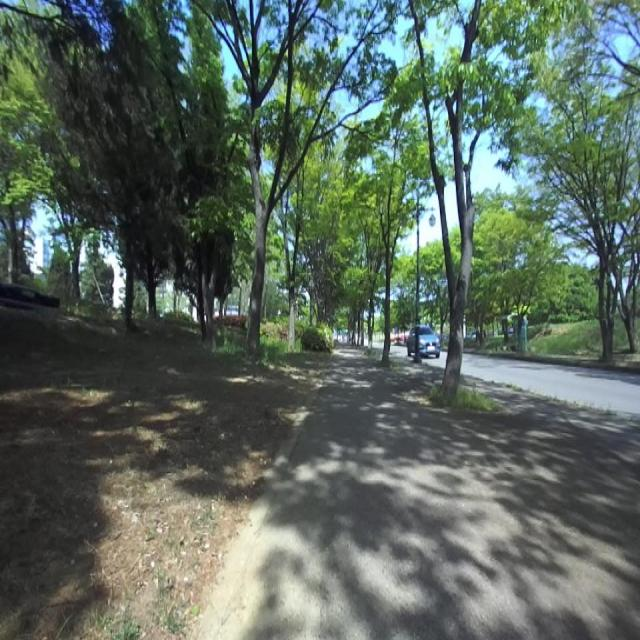sidewalk: (201, 346, 640, 639)
